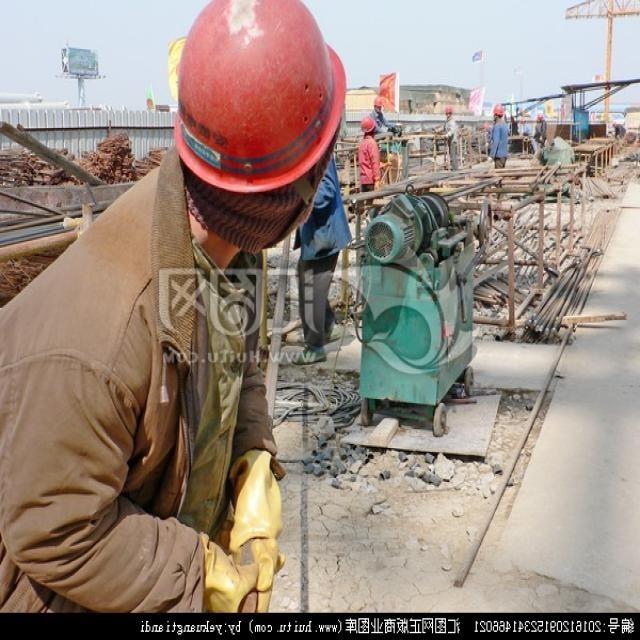Con_Casco: (174, 1, 348, 238)
